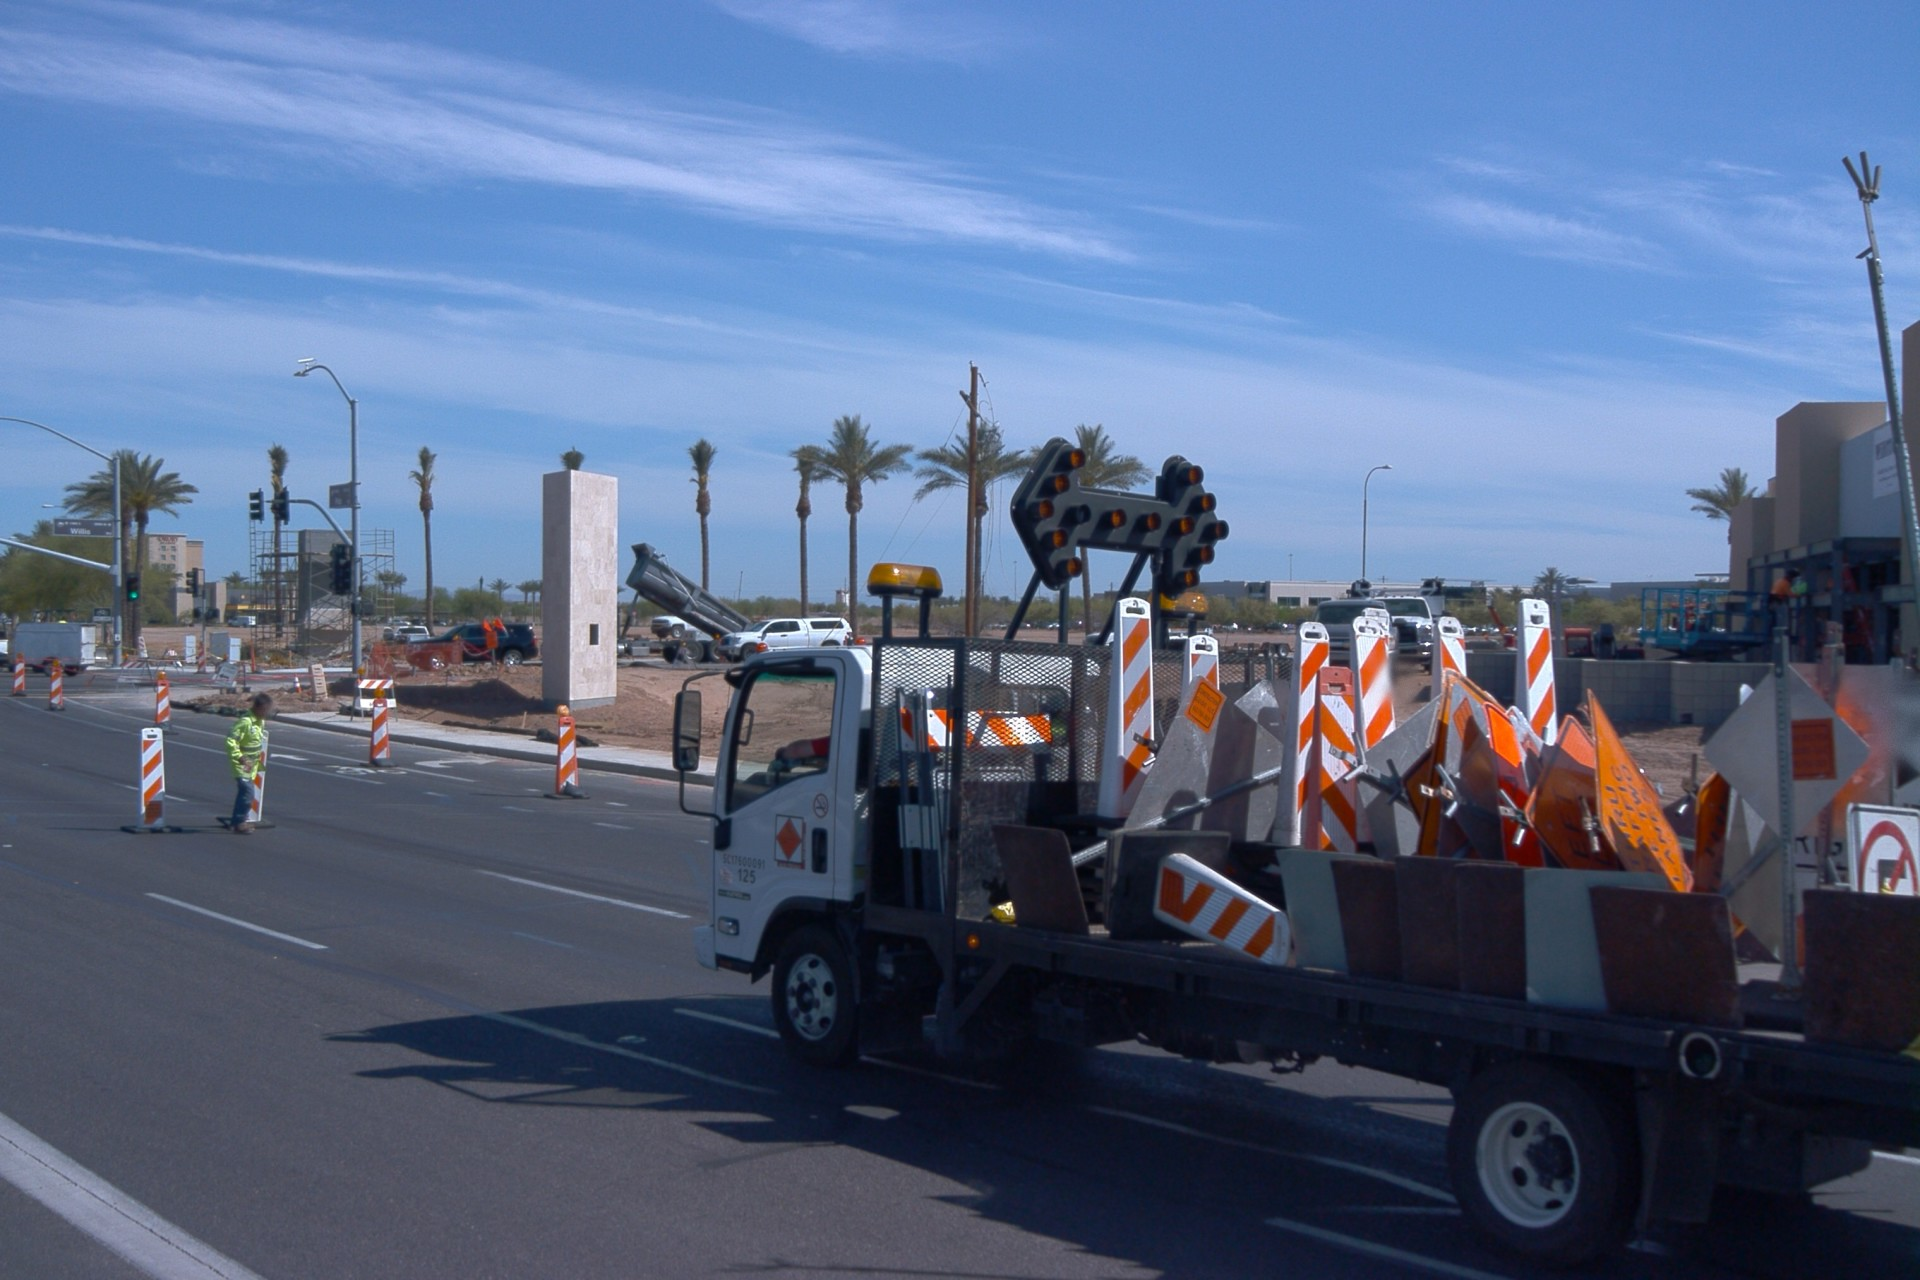TYPE_PEDESTRIAN: (223, 690, 274, 836), (57, 611, 71, 623)
TYPE_VEHICLE: (668, 144, 1920, 1278), (613, 540, 759, 663), (1302, 589, 1410, 692), (1348, 576, 1455, 676), (401, 615, 539, 671), (718, 616, 852, 665), (3, 618, 100, 676), (31, 609, 108, 667), (1077, 627, 1211, 653), (1220, 639, 1294, 658), (649, 614, 702, 640), (394, 628, 437, 645), (225, 617, 256, 631), (0, 634, 9, 658)
